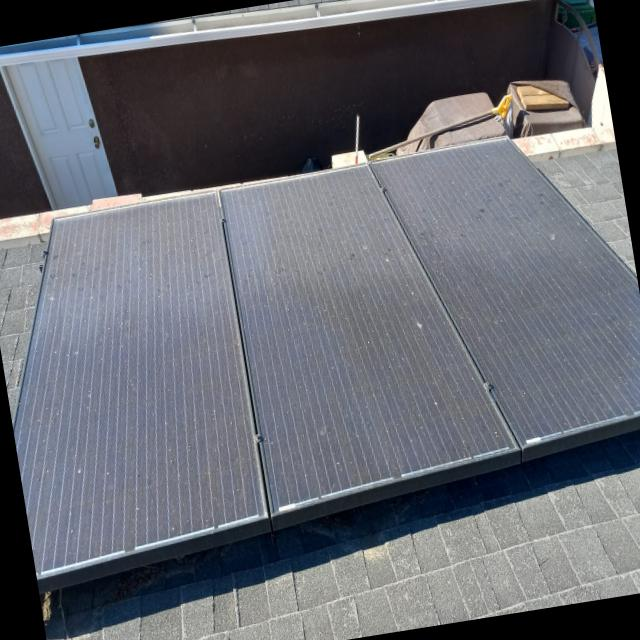faulty: (15, 144, 640, 573), (356, 237, 394, 274), (410, 310, 428, 340), (543, 224, 559, 248)
